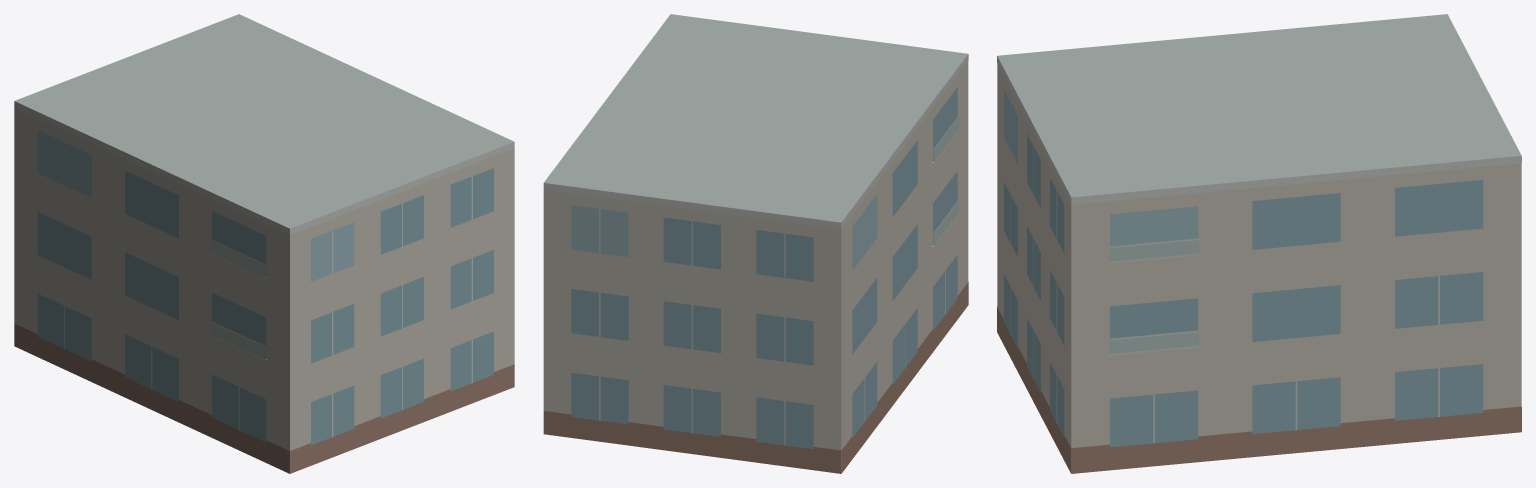
Rendered from survey-upis-32705001.glb.
3 views of the same model, side by side, from view 1: azimuth 30°, elevation 25°; view 2: azimuth 150°, elevation 25°; view 3: azimuth 270°, elevation 25° (orthographic). The views are drawn at different scales.
Visible parts, largest first — view 1: survey-upis-32705001.tmp; view 2: survey-upis-32705001.tmp; view 3: survey-upis-32705001.tmp.
Boxes of the visible parts, x1,y1,x2,y2 form: survey-upis-32705001.tmp: (14,14,514,473); survey-upis-32705001.tmp: (543,14,968,473); survey-upis-32705001.tmp: (997,14,1521,473).
Bounding box in the file's own units: 13.04 × 9.15 × 15.75.
